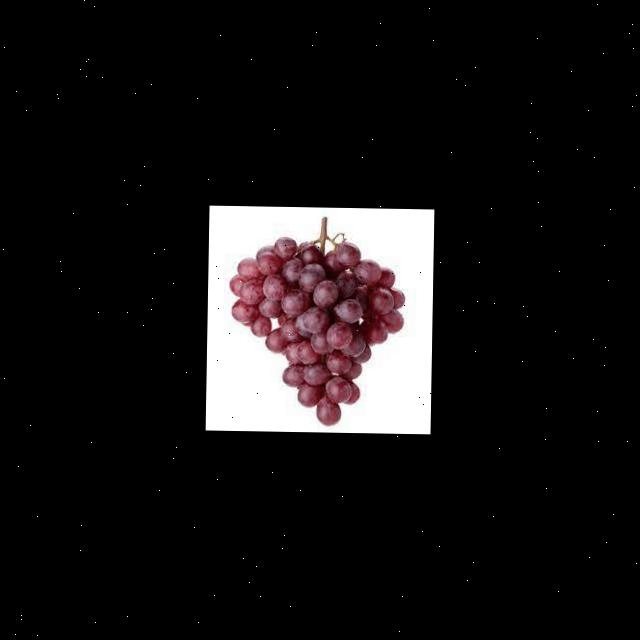grape: (226, 216, 407, 427)
